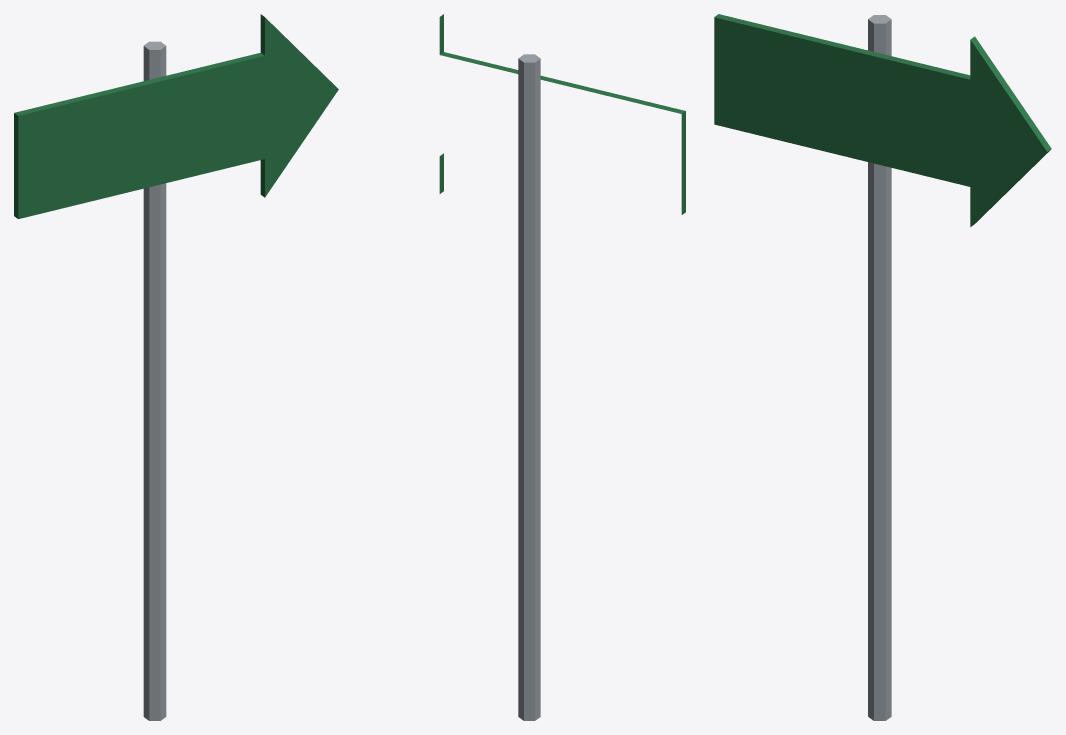
Rendered from Sign_DirectionalArrow.glb.
3 views of the same model, side by side, from view 1: azimuth 30°, elevation 25°; view 2: azimuth 150°, elevation 25°; view 3: azimuth 330°, elevation 25° (orthographic). The views are drawn at different scales.
Parts seen in each view (by area): view 1: Sign_DirectionalArrow_Face, Sign_DirectionalArrow_Metal; view 2: Sign_DirectionalArrow_Metal, Sign_DirectionalArrow_Face; view 3: Sign_DirectionalArrow_Face, Sign_DirectionalArrow_Metal.
Boxes of the visible parts, x1=… form: Sign_DirectionalArrow_Face: x1=14, y1=14, x2=338, y2=218; Sign_DirectionalArrow_Metal: x1=143, y1=41, x2=166, y2=720; Sign_DirectionalArrow_Metal: x1=518, y1=54, x2=540, y2=720; Sign_DirectionalArrow_Face: x1=439, y1=14, x2=685, y2=214; Sign_DirectionalArrow_Face: x1=714, y1=14, x2=1051, y2=226; Sign_DirectionalArrow_Metal: x1=868, y1=15, x2=891, y2=720.
Bounding box in the file's own units: 1.3 × 2.65 × 0.12.
